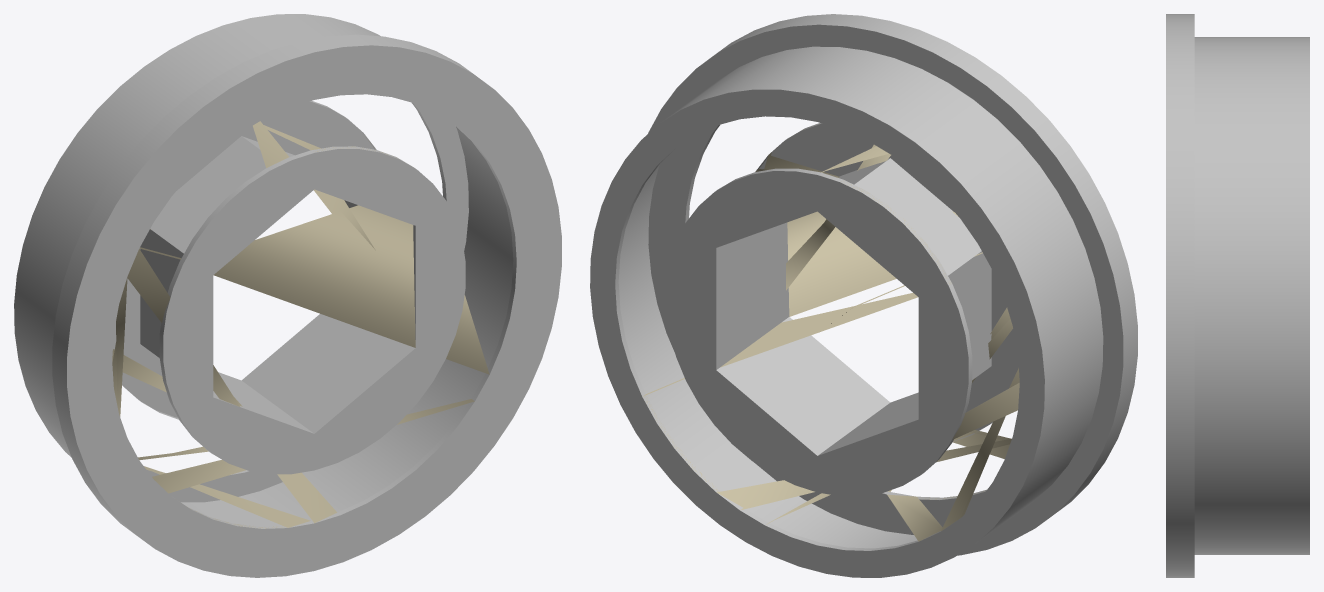
File: c_1_2_hex_bearing_good_real_1.dae
3 renders of one model, left to right at view 1: azimuth 30°, elevation 25°; view 2: azimuth 150°, elevation 25°; view 3: azimuth 270°, elevation 25°, orthographic.
Visible parts, largest first — view 1: node0, node1; view 2: node0, node1; view 3: node0.
Boxes of the visible parts, bbox=[...] form: node0: bbox=[14, 14, 561, 577]; node1: bbox=[112, 121, 489, 528]; node0: bbox=[590, 14, 1137, 577]; node1: bbox=[643, 124, 1019, 541]; node0: bbox=[1166, 14, 1309, 577].
Bounding box in the file's own units: 0.0311 × 0.0311 × 0.00794.
